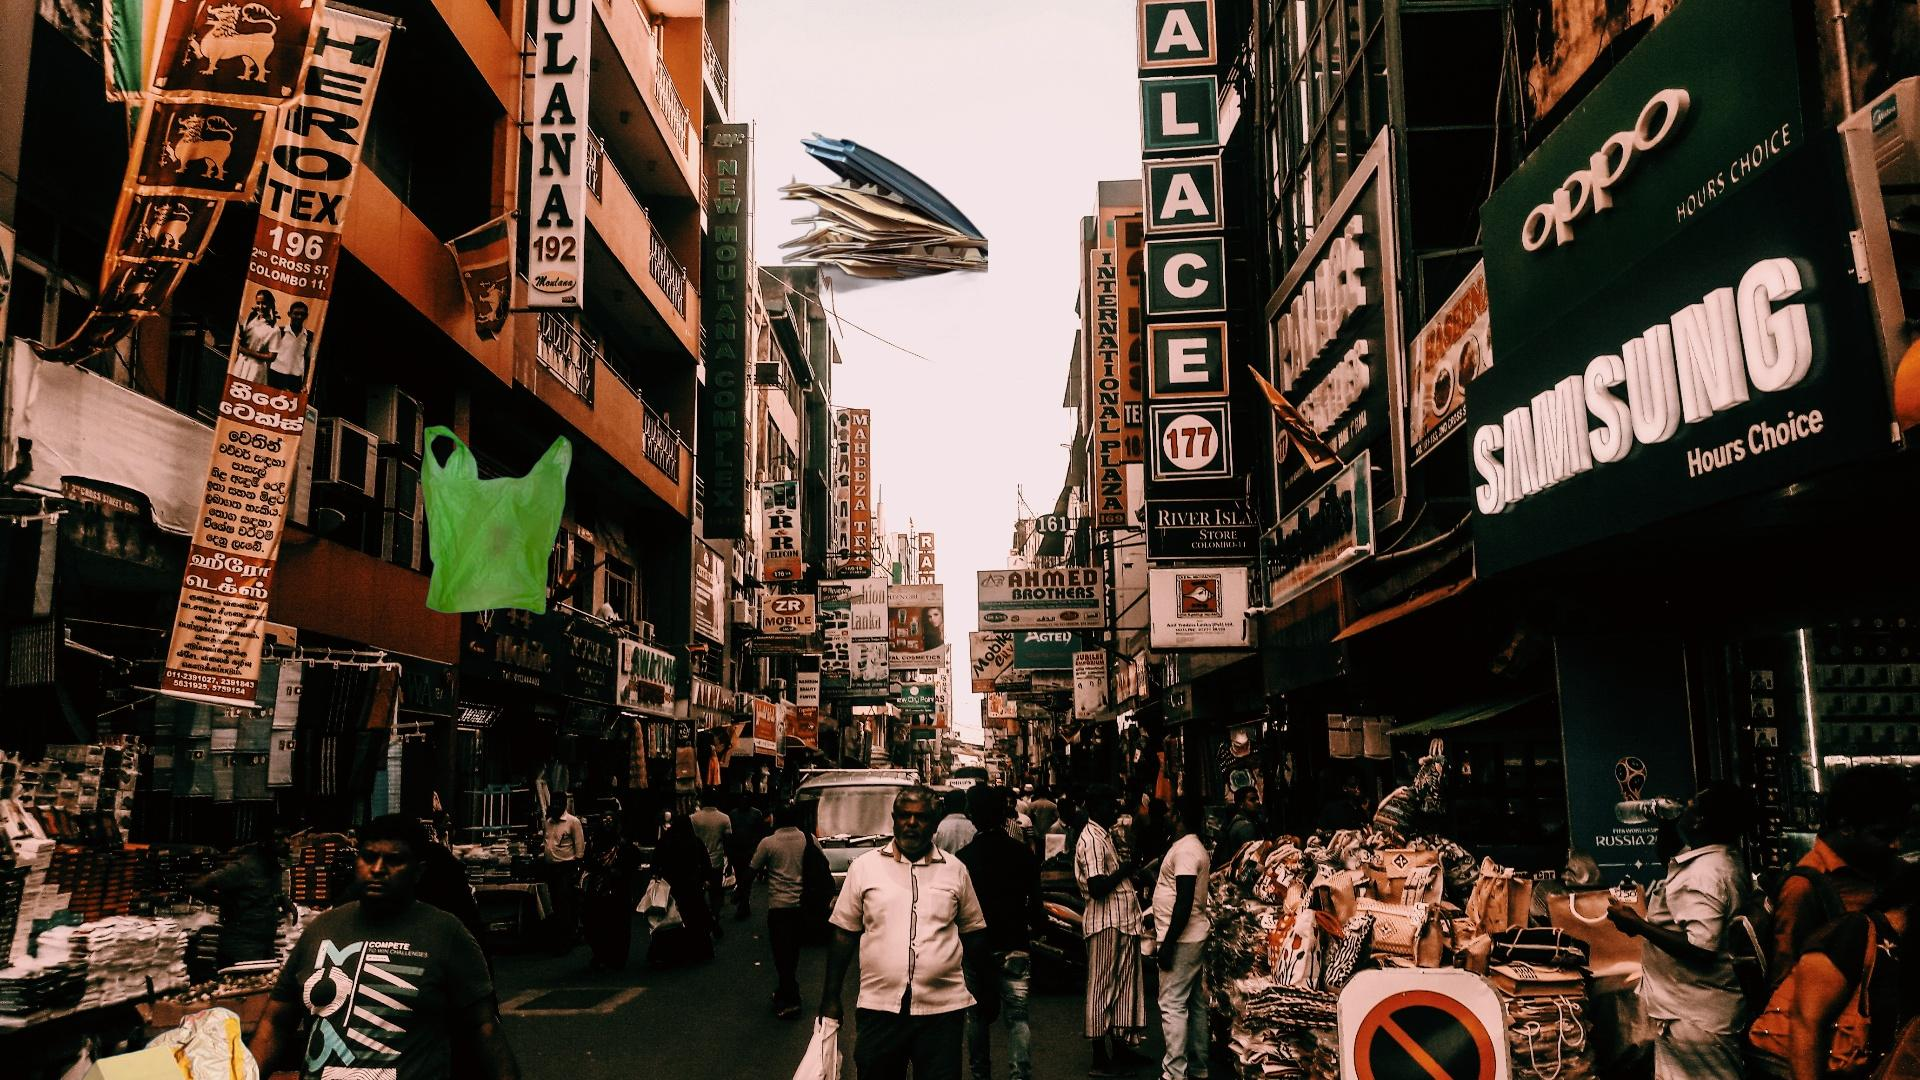paper-bag: (74, 1005, 268, 1080)
plastic-bag: (418, 422, 574, 617)
trashbox-cardboard: (767, 131, 988, 338)
